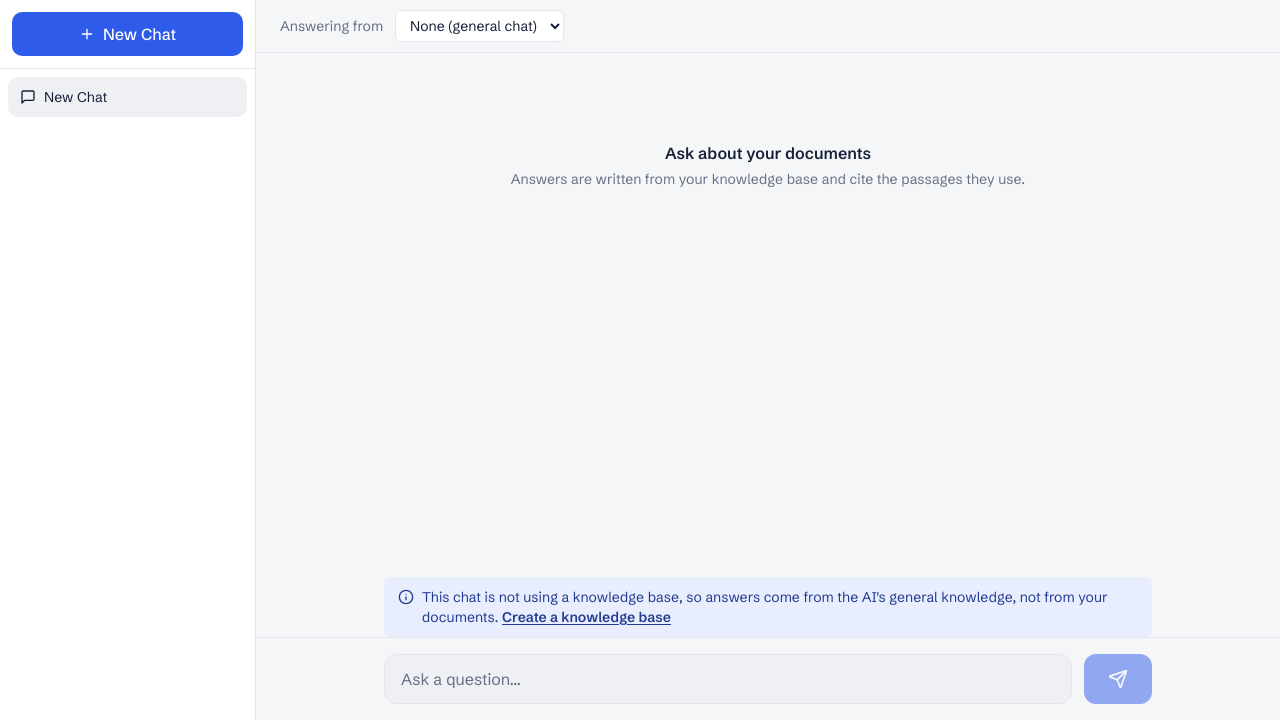
Test case: ChatPage › shows the answer as it streams in
Type "How long?" into the field named "Your question" at (728, 679), box [384, 654, 1072, 704]
Then press Enter
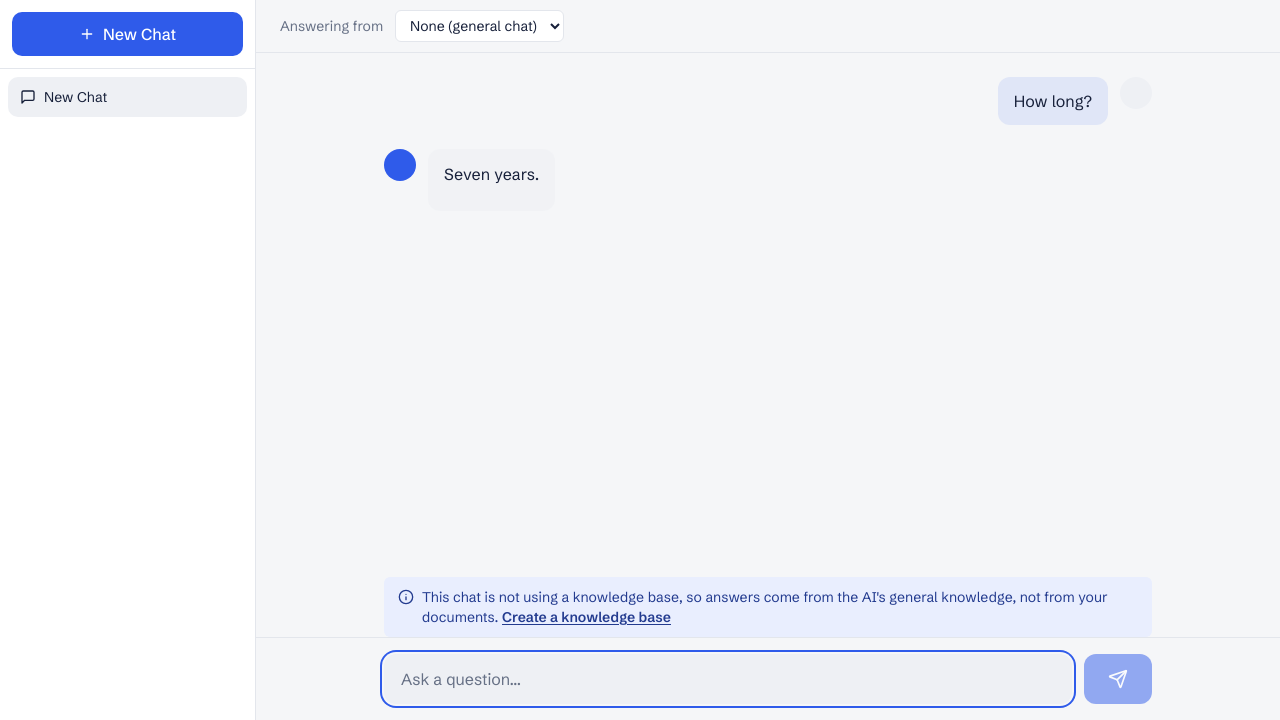
expect the text "Seven years." is shown: met, box [444, 161, 539, 187]
